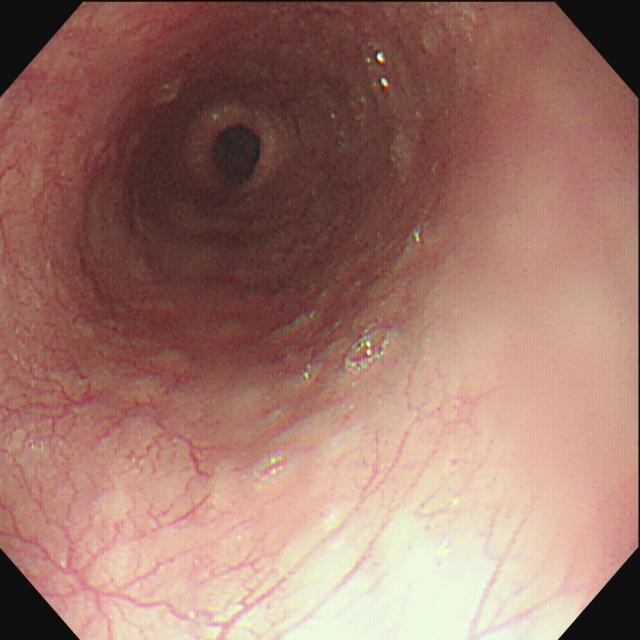E: (175, 89, 298, 208)
T: (342, 328, 393, 380), (252, 452, 291, 483)
U: (376, 52, 392, 91)
